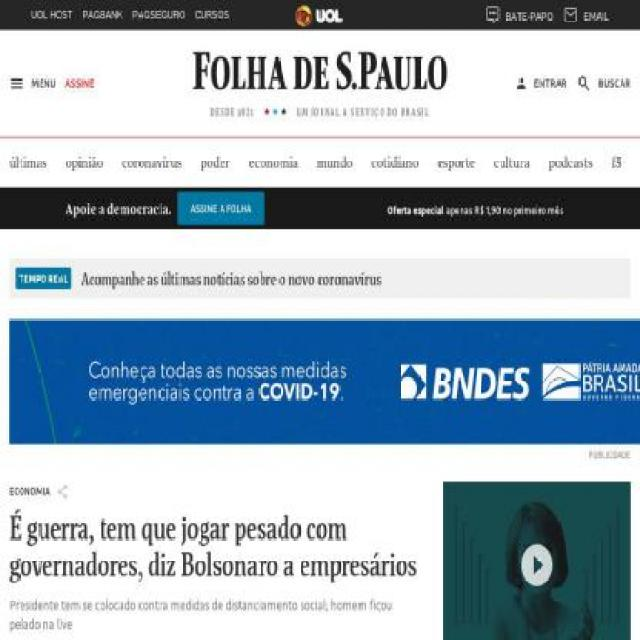button: (9, 510, 425, 633), (9, 258, 631, 298), (177, 192, 265, 226), (480, 0, 558, 31), (127, 0, 190, 31), (558, 0, 614, 31), (25, 0, 78, 31), (77, 0, 128, 31), (190, 0, 235, 31), (295, 0, 340, 31), (515, 72, 576, 94), (575, 72, 631, 94), (10, 72, 56, 94), (56, 72, 95, 94), (57, 482, 68, 498)
